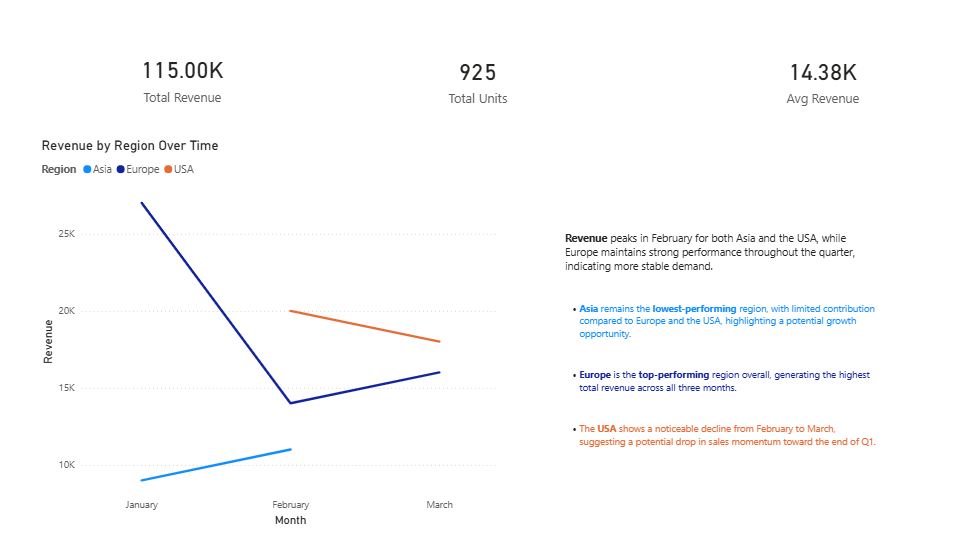

The page's visual inventory and layout, read from the dashboard file:
{"tool":"powerbi","page":{"name":"Page 1","canvas":[1280,720],"ordinal":0},"visuals":[{"type":"lineChart","title":"Revenue by Region Over Time","fields":{"Y":["pharma_sales.Total Revenue"],"Category":["pharma_sales.Month Hierarchy.Month"],"Series":["pharma_sales.Region"]},"box":[54,188,586,494],"z":0},{"type":"card","fields":{"Values":["pharma_sales.Total Revenue"]},"box":[0,36,474,150],"z":1},{"type":"card","fields":{"Values":["pharma_sales.Total Units"]},"box":[372,38,474,150],"z":2},{"type":"card","fields":{"Values":["pharma_sales.Avg Revenue"]},"box":[806,38,474,150],"z":3},{"type":"textbox","box":[714.3,298.6,404.4,342],"z":4}]}

Visuals, with their boxes in screenshot pixels (x1, y1, x2, y2), scaled from the page's 1280x720 canvas onto the 973x559 screenshot:
"Revenue by Region Over Time" lineChart: rect(41, 146, 486, 529)
card - pharma_sales.Total Revenue: rect(0, 28, 360, 144)
card - pharma_sales.Total Units: rect(283, 30, 643, 146)
card - pharma_sales.Avg Revenue: rect(613, 30, 972, 146)
textbox: rect(543, 232, 850, 497)
